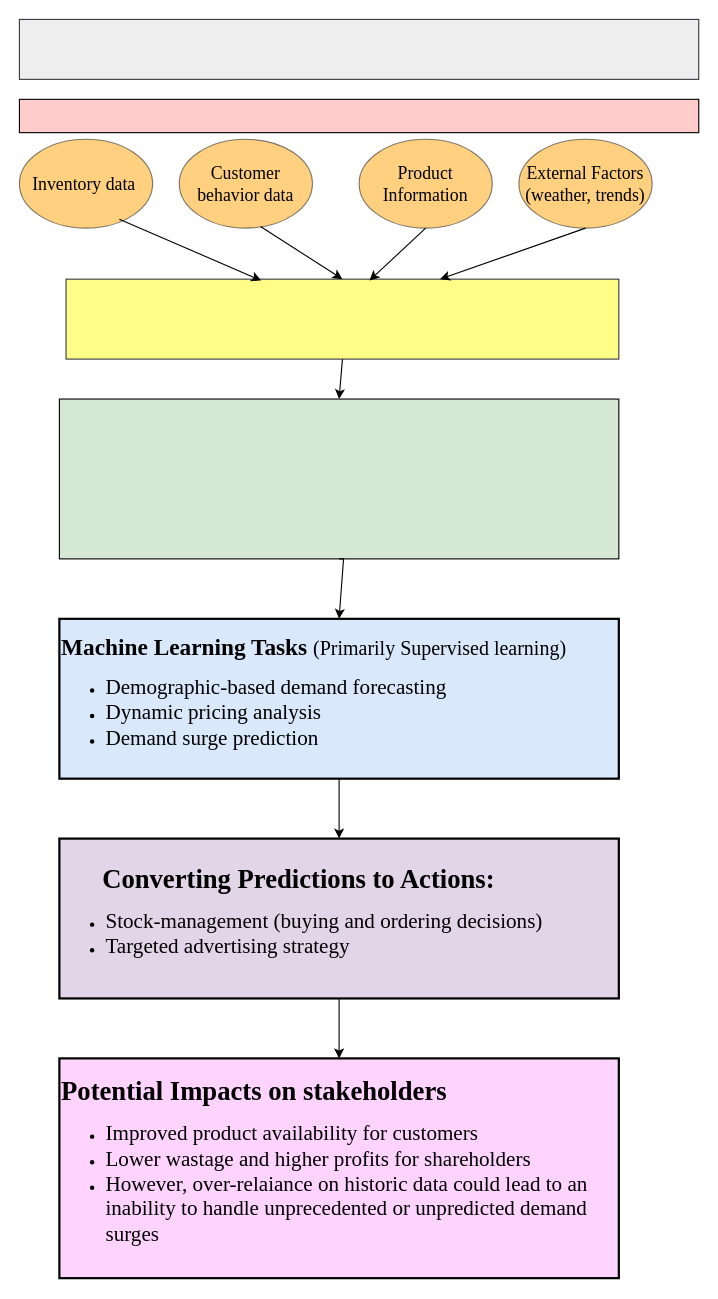
Some shapes in this 718 by 1299 pixel diagram are drawn without their labels. The shapes that lost their labels are listed below. From the top down, each one's box as (x1, y1, x2, y2) in pixels, then its label:
(18, 18, 699, 79): Data to Decision Mapping (Retail Industry)
(18, 98, 699, 133): Raw Data Sources
(65, 278, 619, 359): Raw Data Collection
(58, 398, 619, 559): Processing : Normalisation Cleaning Contextualising Examining outliers
